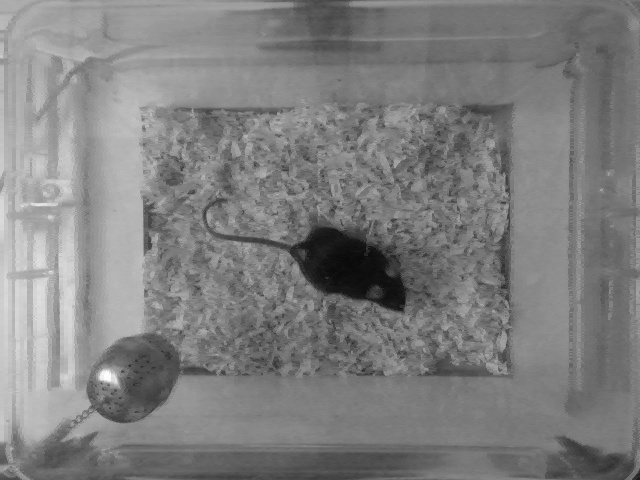mice: (199, 194, 412, 315)
